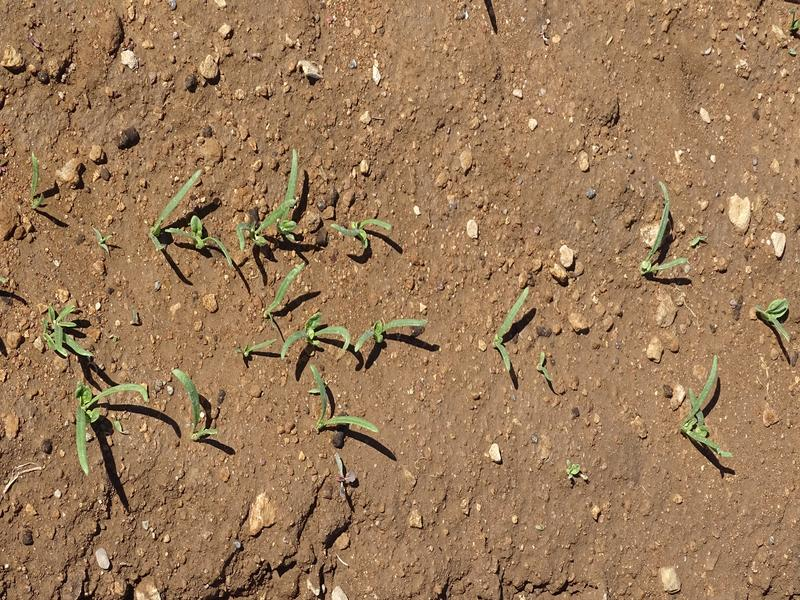Espinaca: (147, 149, 313, 261), (240, 272, 418, 364), (64, 373, 153, 470), (685, 359, 736, 462), (307, 365, 381, 430), (643, 187, 687, 279), (40, 305, 102, 360), (176, 368, 216, 442), (491, 289, 526, 372), (333, 215, 386, 251), (759, 296, 790, 340)
